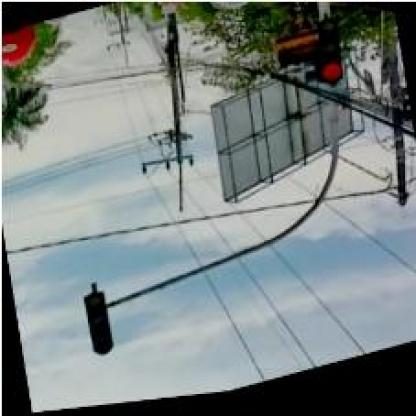red: (314, 22, 346, 95)
yellow: (80, 291, 113, 361)
